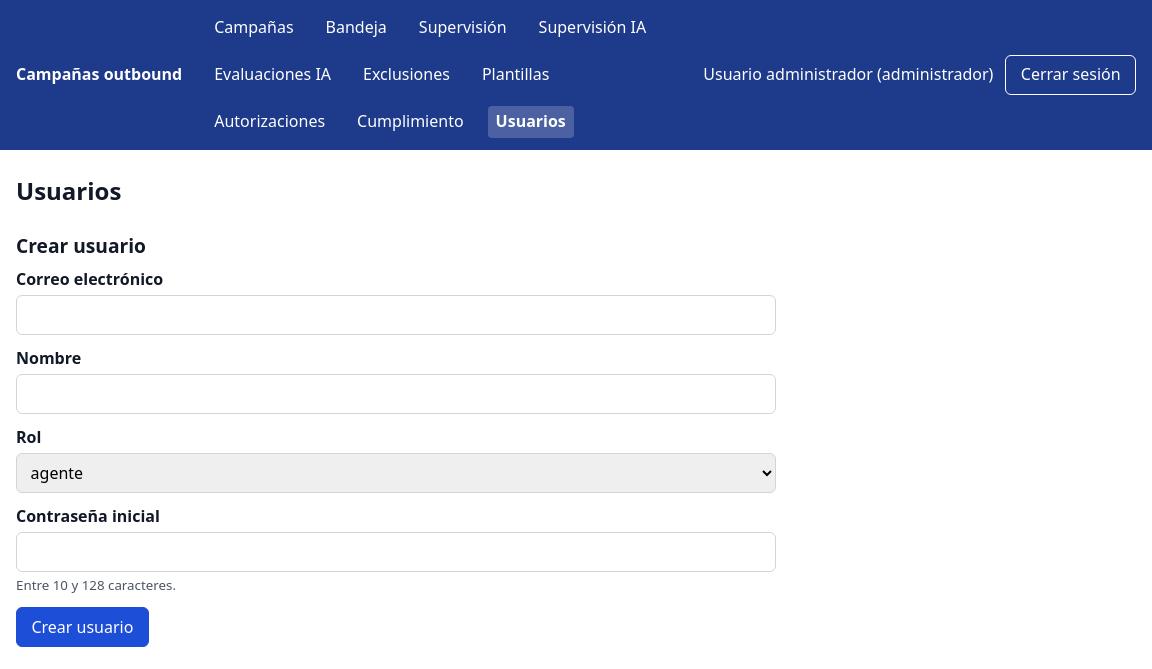
Usuarios (solo administrador) › crear usuario envía el cuerpo del contrato y confirma
In the field labelled "Correo electrónico": (396, 315) [16,295,776,335], type " agente1@empresa.co "
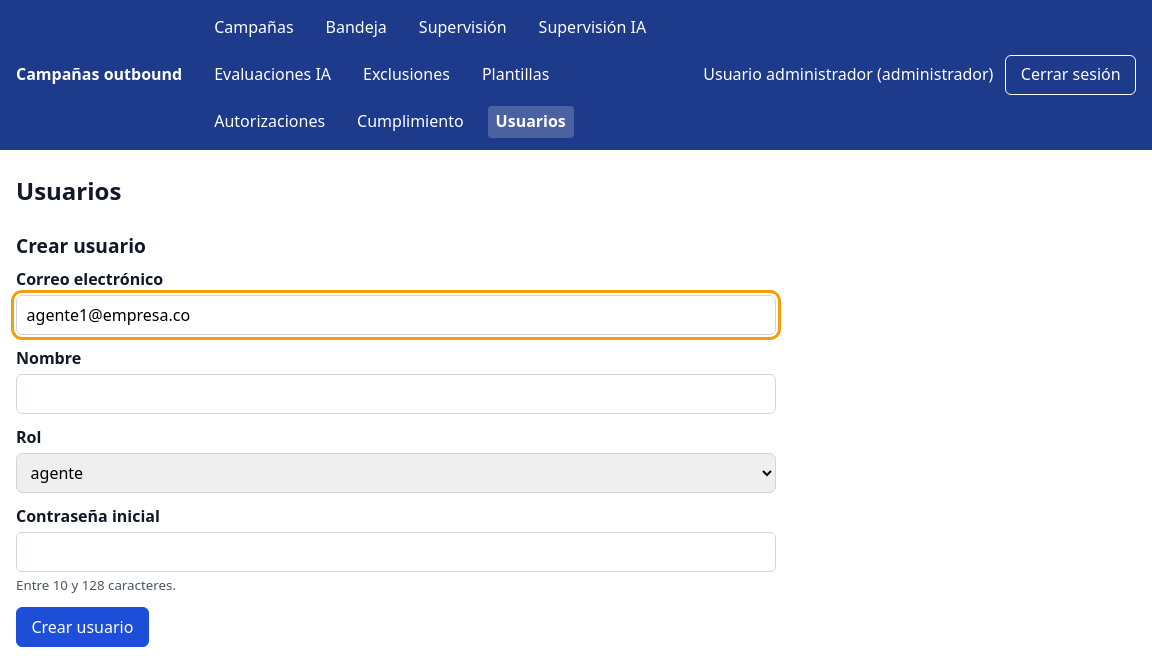
In the field labelled "Nombre": (396, 394) [16,374,776,414], type "Pedro Agente"
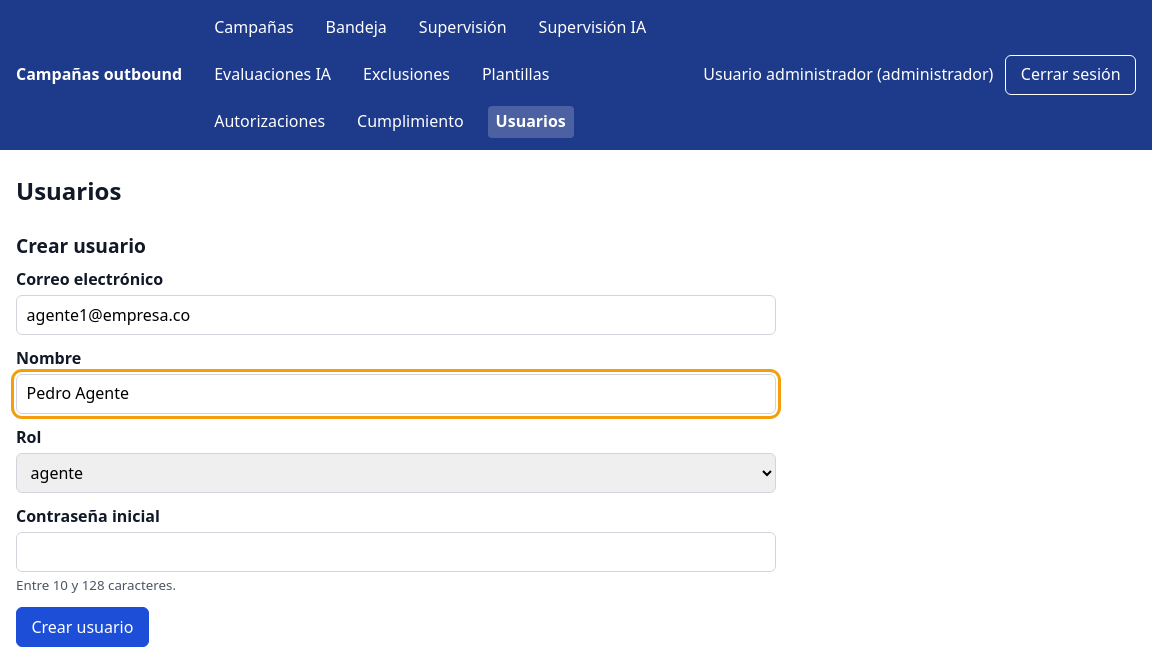
Select "agente" in the dropdown labelled "Rol": (396, 473) [16,453,776,493]
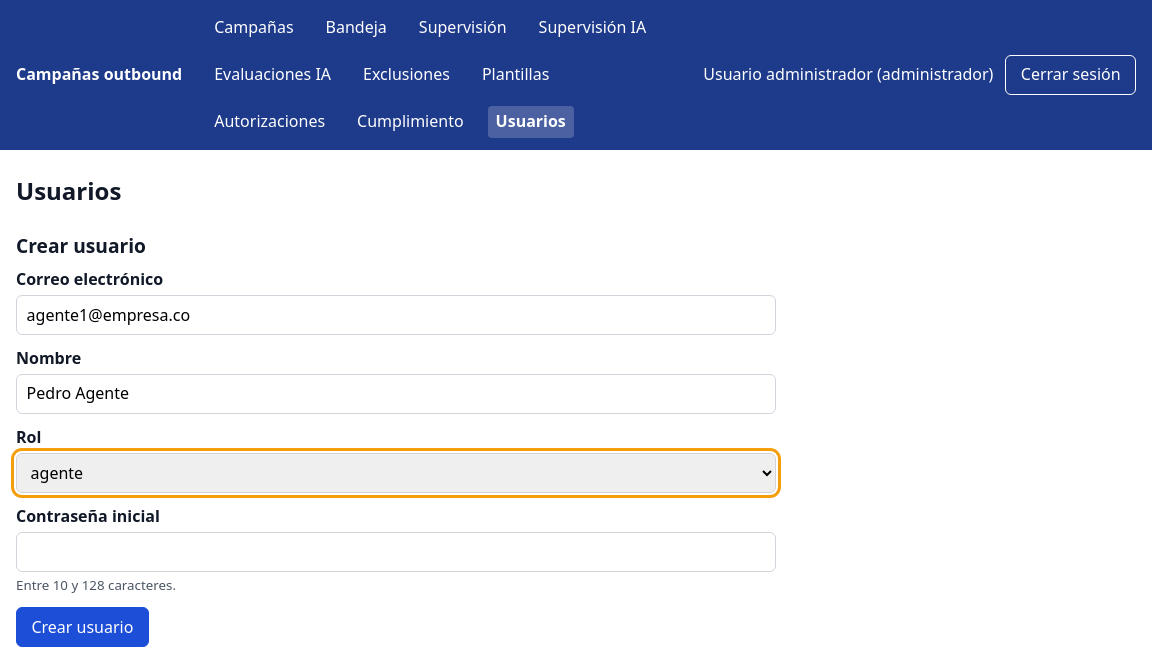
In the password field labelled "Contraseña inicial": (396, 552) [16,532,776,572], type "ClaveSegura123"
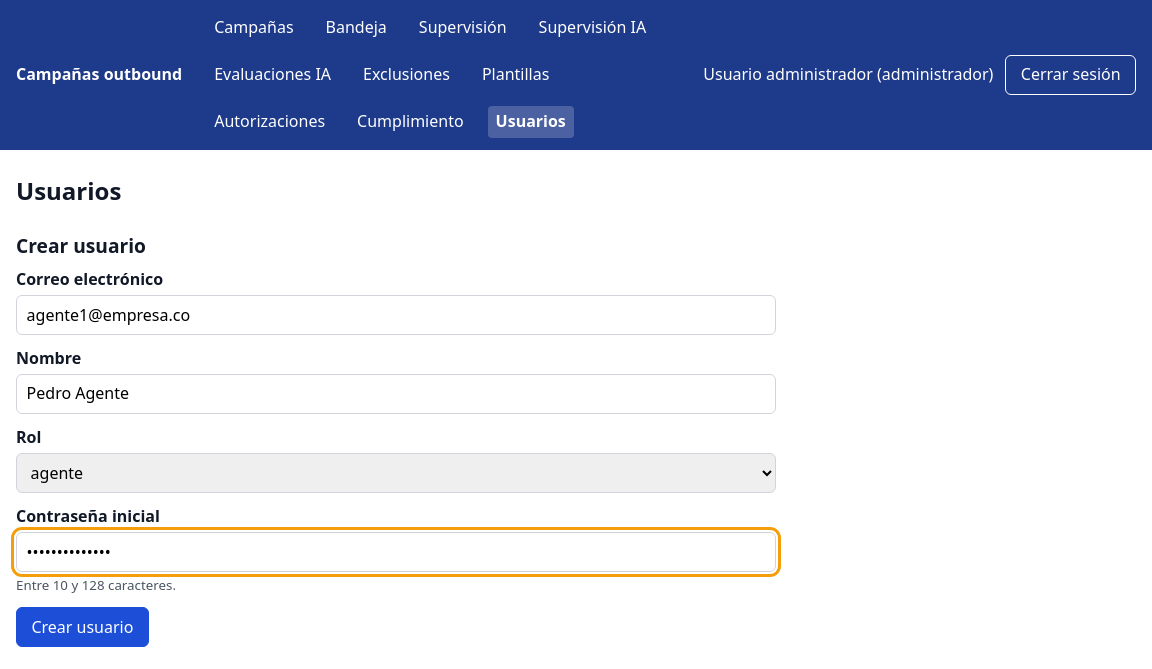
Click the button "Crear usuario": click(82, 627) [16,607,149,647]
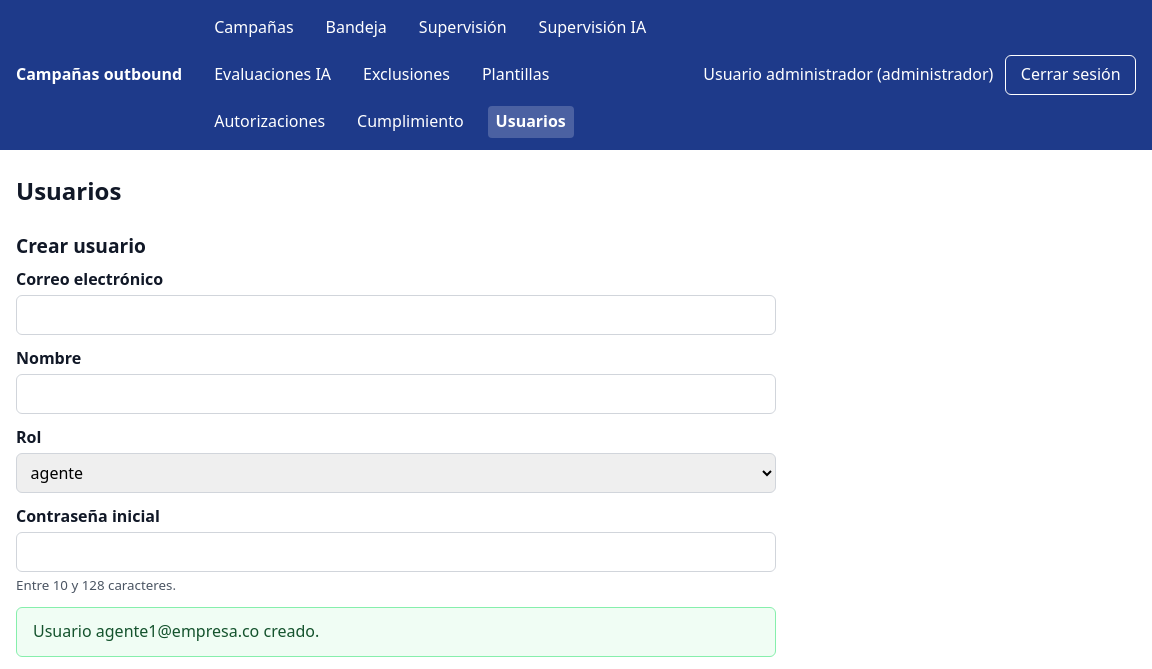
Expected: the text "Usuario agente1@empresa.co creado." is shown, [16,607,776,656]
Expected: the password field labelled "Contraseña inicial" is empty, [16,532,776,572]
